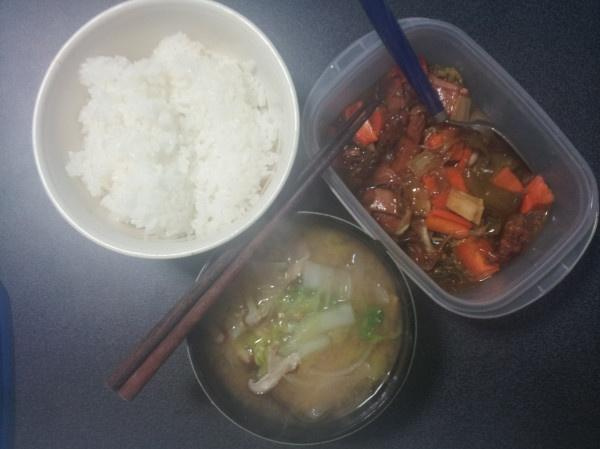rice: (66, 34, 281, 240)
